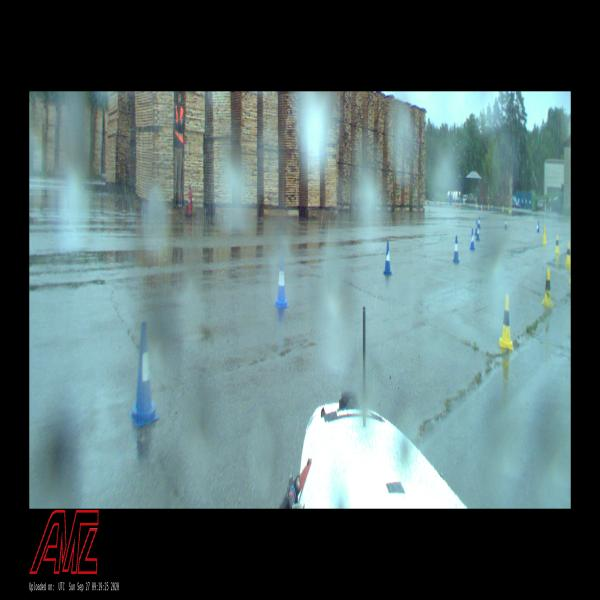blue_cone: (132, 322, 156, 423), (276, 255, 287, 308), (384, 240, 391, 274), (454, 235, 460, 263), (470, 229, 475, 250), (476, 224, 480, 240), (475, 220, 477, 235), (537, 220, 539, 231), (478, 216, 480, 227), (505, 218, 507, 228), (490, 204, 492, 212), (492, 204, 493, 212), (426, 199, 428, 203), (466, 202, 467, 208), (477, 203, 478, 209), (450, 198, 451, 204), (428, 199, 429, 204), (443, 200, 444, 205)
orange_cone: (481, 204, 483, 211), (438, 201, 439, 207), (456, 204, 456, 208)
yellow_cone: (499, 295, 513, 348), (543, 269, 552, 307), (566, 242, 570, 266), (555, 235, 560, 254), (543, 230, 546, 244), (543, 226, 545, 238), (502, 205, 504, 212), (510, 205, 512, 212), (508, 206, 510, 212), (488, 204, 489, 209), (476, 203, 477, 207), (460, 202, 461, 206), (425, 199, 426, 203)
